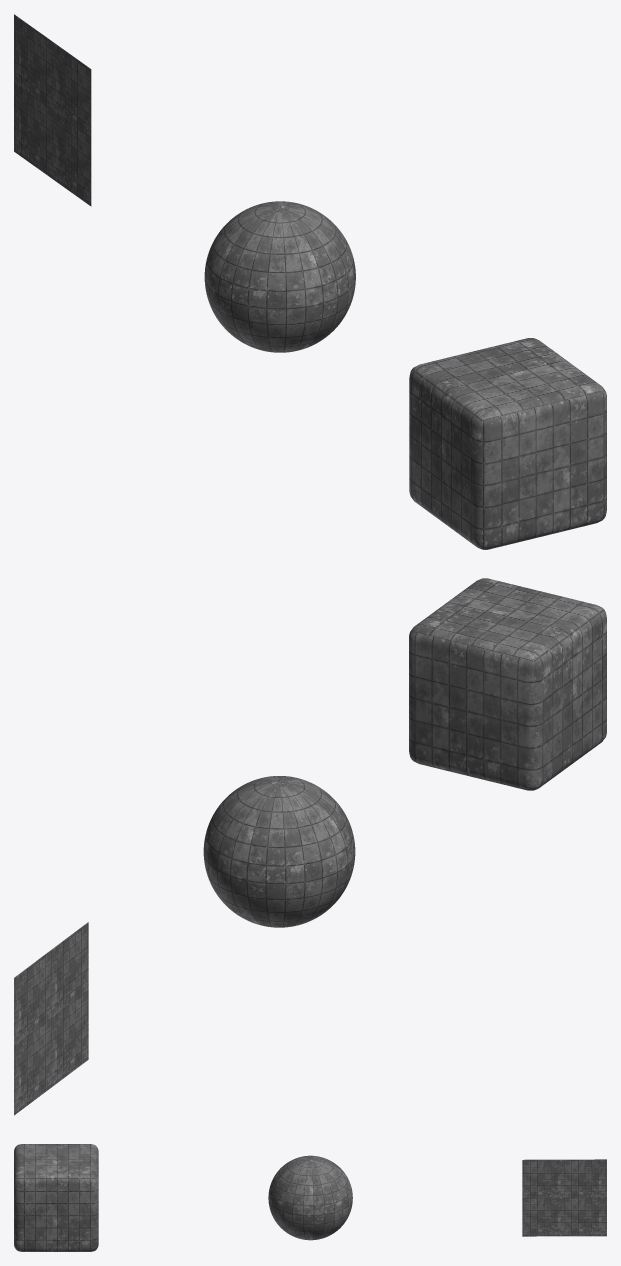
The model's file is stone_patterned_tiles__tile_texture.glb.
3 views of the same model, one above another, from view 1: azimuth 30°, elevation 25°; view 2: azimuth 150°, elevation 25°; view 3: azimuth 270°, elevation 25° (orthographic). The views are drawn at different scales.
Parts seen in each view (by area): view 1: Cube, Sphere, Plane; view 2: Cube, Sphere, Plane; view 3: Cube, Plane, Sphere.
Part boxes in pixels (box(x1,y1,x2,y2)): Cube: box(409, 338, 606, 549); Sphere: box(204, 201, 355, 352); Plane: box(14, 14, 91, 206); Cube: box(409, 578, 606, 790); Sphere: box(203, 776, 355, 927); Plane: box(14, 922, 88, 1115); Cube: box(14, 1144, 98, 1251); Plane: box(522, 1159, 606, 1236); Sphere: box(268, 1155, 352, 1240).
Size of the model in its own units: 2 by 2 by 14.01.
1 material, 1 textured.
